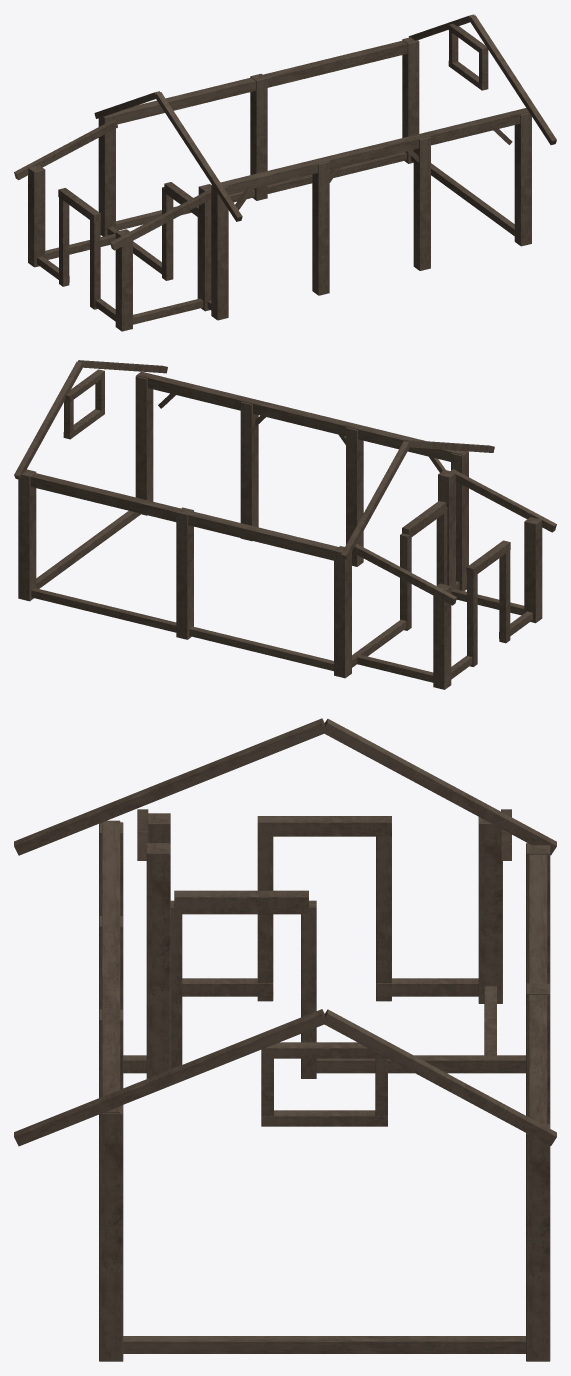
Rendered from BW_StableA02_Structure.fbx.
The picture shows the model from 3 angles, top to bottom: view 1: azimuth 30°, elevation 25°; view 2: azimuth 150°, elevation 25°; view 3: azimuth 270°, elevation 25°; orthographic projection. The views are drawn at different scales.
Parts seen in each view (by area): view 1: BW_StableA02_Structure; view 2: BW_StableA02_Structure; view 3: BW_StableA02_Structure.
Part boxes in pixels (x1,y1,x2,y2): BW_StableA02_Structure: [14, 14, 556, 331]; BW_StableA02_Structure: [14, 360, 556, 689]; BW_StableA02_Structure: [14, 718, 556, 1361].
Size of the model in its own units: 11.39 by 4.89 by 6.87.
